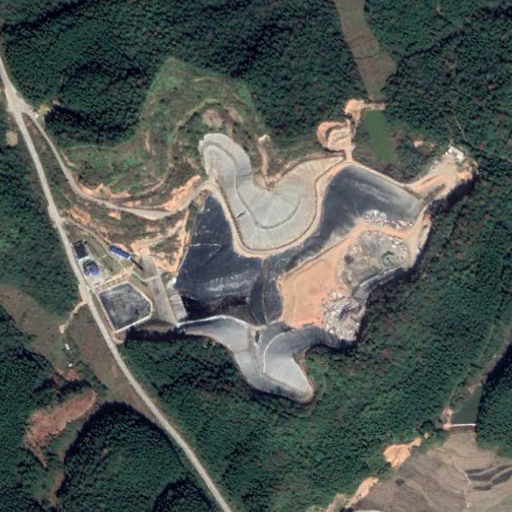lf: (170, 135, 432, 398)
